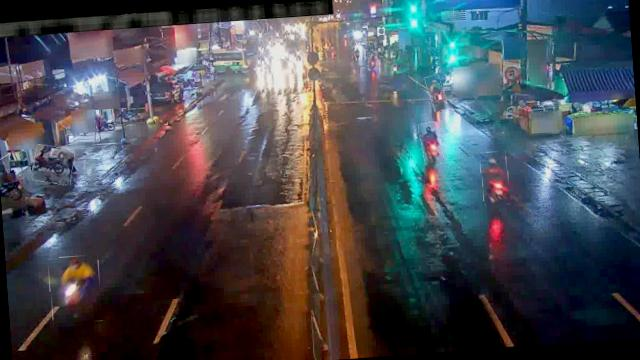Bike: (48, 255, 102, 324), (31, 143, 76, 186), (479, 150, 510, 206), (418, 121, 442, 165), (426, 73, 446, 111), (114, 108, 148, 127), (368, 52, 378, 70)
